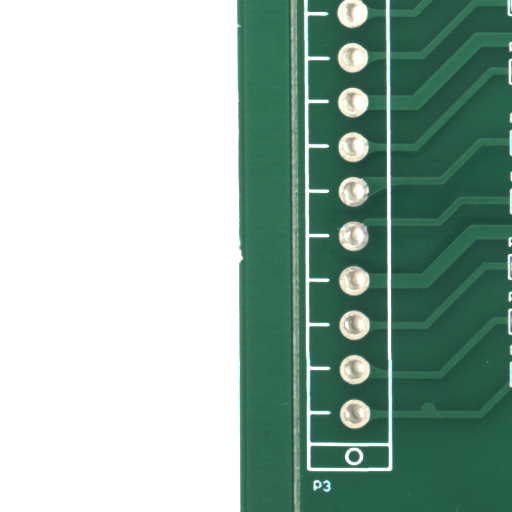Spur: (428, 406, 444, 417)
